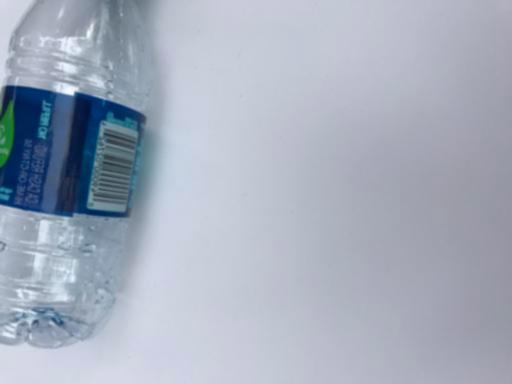PET: (0, 1, 154, 351)
plastic: (0, 1, 154, 351)
water: (0, 1, 154, 351)
